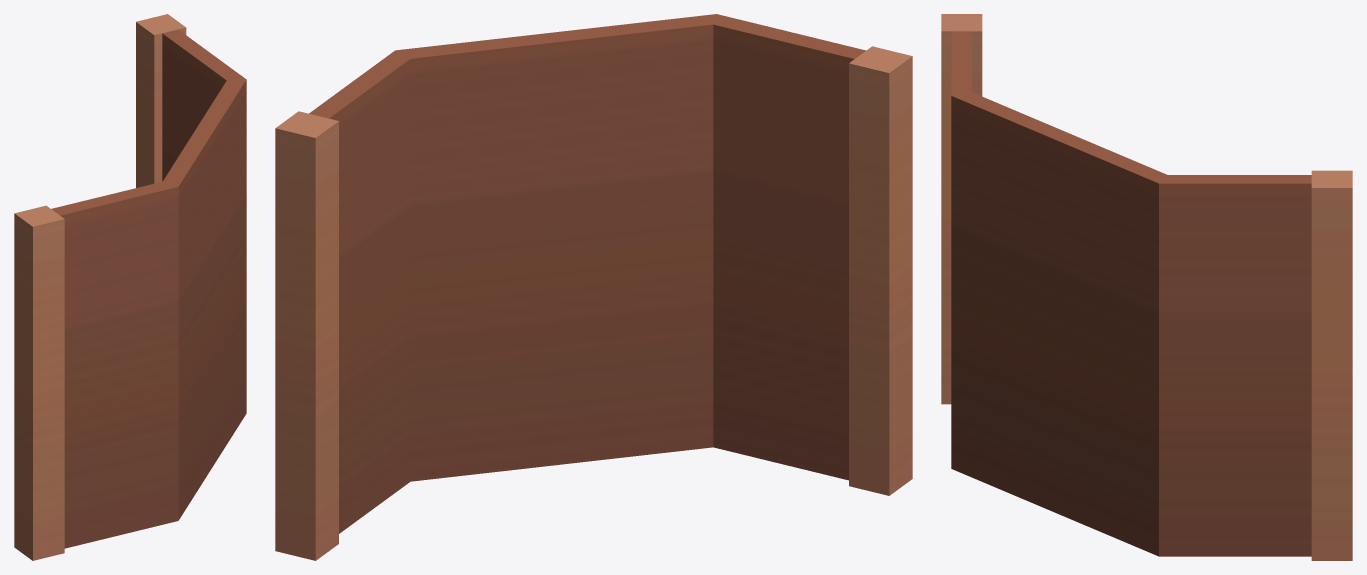
File: wall-wood-corner-diagonal.glb
3 renders of one model, left to right at view 1: azimuth 30°, elevation 25°; view 2: azimuth 150°, elevation 25°; view 3: azimuth 270°, elevation 25°, orthographic. The views are drawn at different scales.
Parts seen in each view (by area): view 1: wall-wood-corner-diagonal; view 2: wall-wood-corner-diagonal; view 3: wall-wood-corner-diagonal.
Boxes of the visible parts, box(x1,y1,x2,y2) form: wall-wood-corner-diagonal: box(14, 14, 246, 560); wall-wood-corner-diagonal: box(275, 14, 912, 560); wall-wood-corner-diagonal: box(941, 14, 1352, 560).
Size of the model in its own units: 1 by 1 by 1.
Materials: 1 (1 with a texture image).
